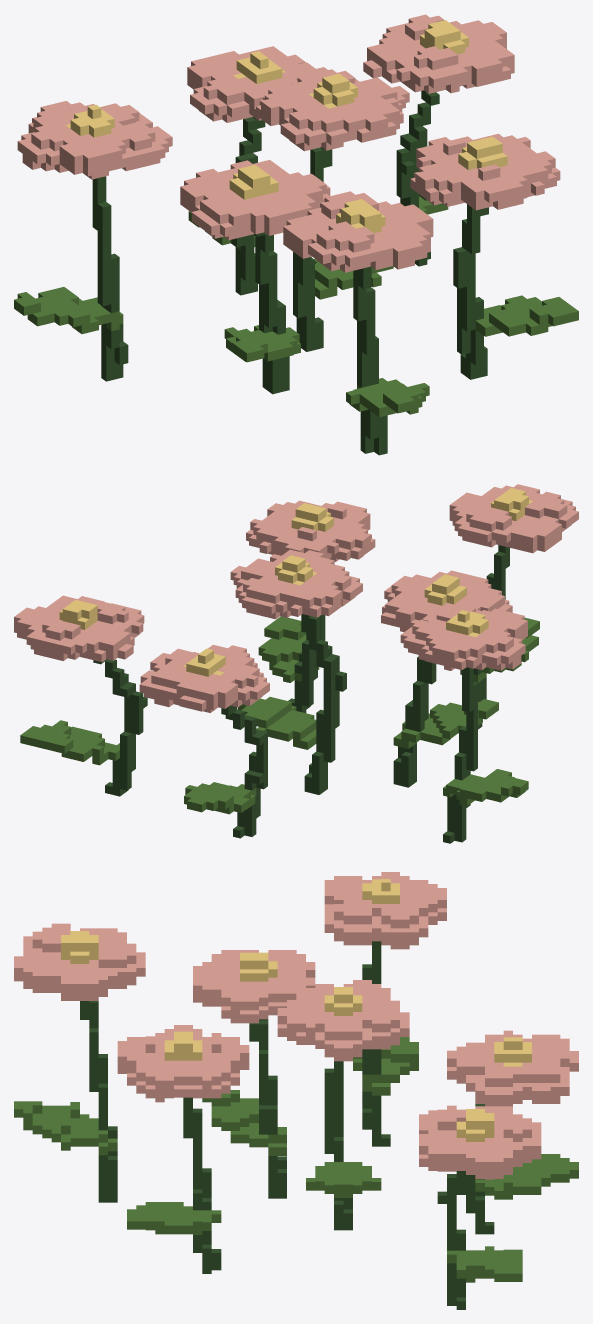
Rendered from flower_cluster_v2_near.glb.
3 renders of one model, top to bottom at view 1: azimuth 30°, elevation 25°; view 2: azimuth 150°, elevation 25°; view 3: azimuth 270°, elevation 25°, orthographic. The views are drawn at different scales.
Parts seen in each view (by area): view 1: flower_cluster_v2_near; view 2: flower_cluster_v2_near; view 3: flower_cluster_v2_near.
Part boxes in pixels (x1,y1,x2,y2): flower_cluster_v2_near: (14,14,578,455); flower_cluster_v2_near: (14,484,578,843); flower_cluster_v2_near: (14,872,578,1309).
Size of the model in its own units: 1.94 by 0.9375 by 1.88.
1 material, 1 textured.
